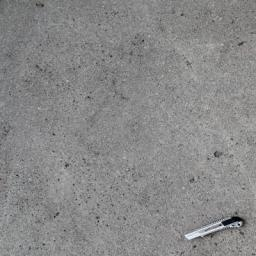FOD: (184, 215, 249, 242)
